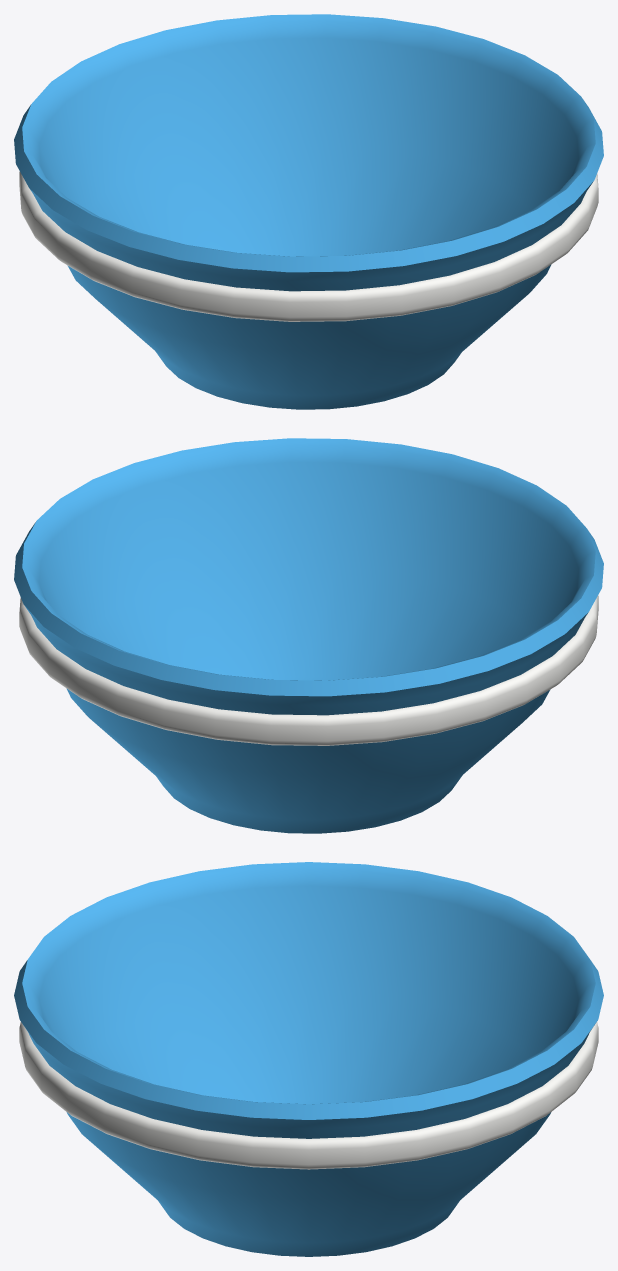
File: tigela_azul.glb
3 views of the same model, one above another, from view 1: azimuth 30°, elevation 25°; view 2: azimuth 150°, elevation 25°; view 3: azimuth 270°, elevation 25° (orthographic).
Visible parts, largest first — view 1: tigela_azul; view 2: tigela_azul; view 3: tigela_azul.
Boxes of the visible parts, left/top/right/bottom form: tigela_azul: left=14, top=14, right=603, bottom=409; tigela_azul: left=14, top=438, right=603, bottom=833; tigela_azul: left=14, top=862, right=603, bottom=1256.
Bounding box in the file's own units: 0.216 × 0.085 × 0.216.
1 material, 1 textured.
